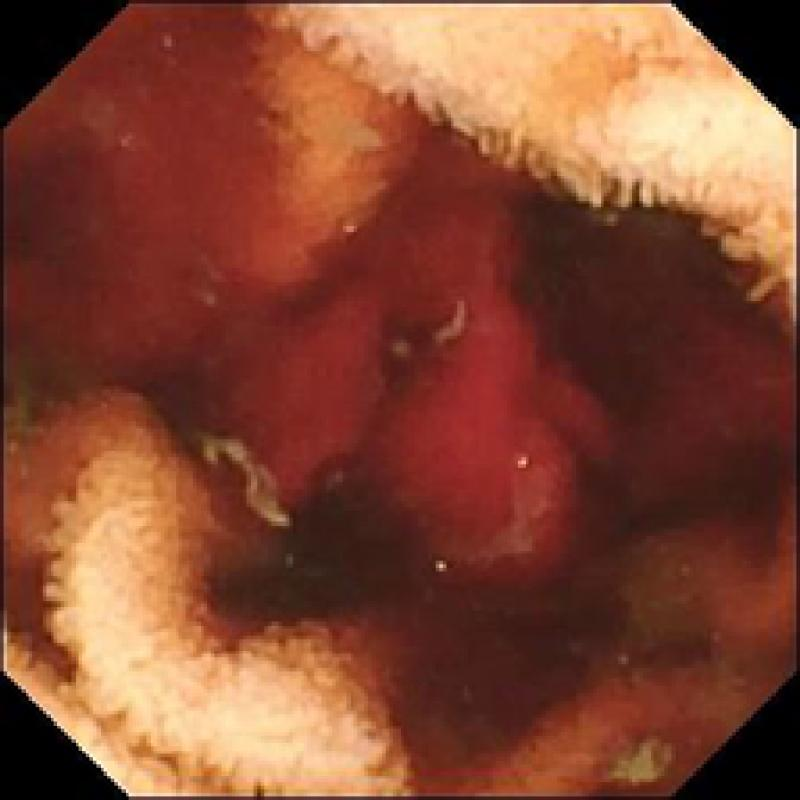bleeding: (0, 0, 800, 783)
